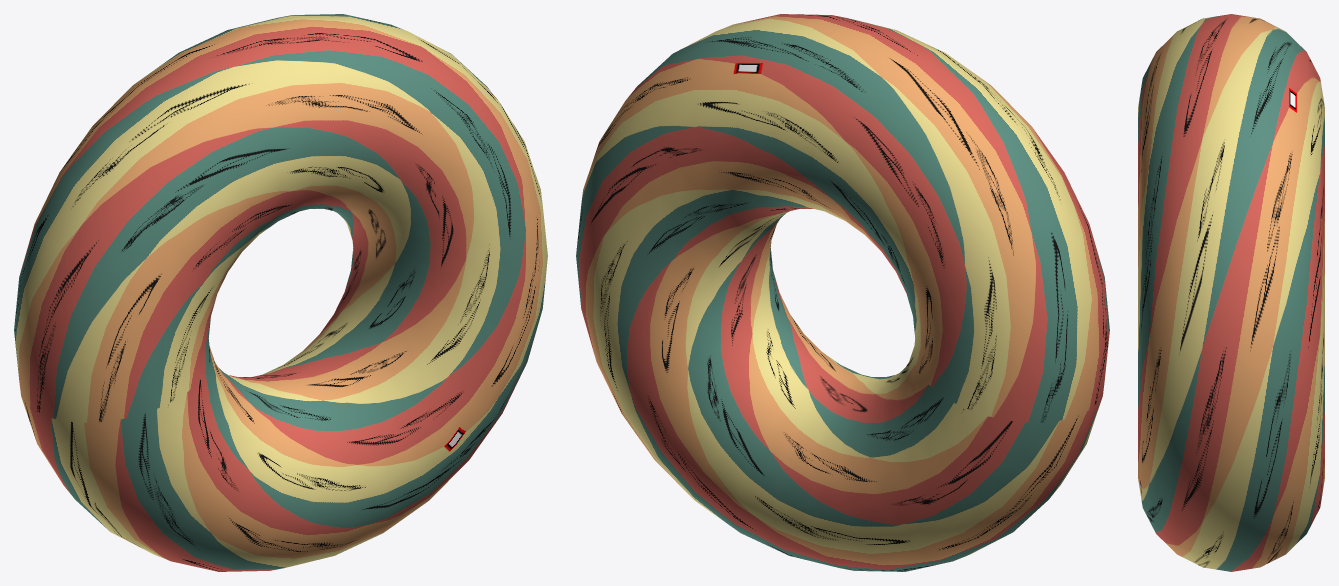
Rendered from uv_checkerboard_res_1024_iter_383_cat_map.obj.
3 views of the same model, side by side, from view 1: azimuth 30°, elevation 25°; view 2: azimuth 150°, elevation 25°; view 3: azimuth 270°, elevation 25° (orthographic). The views are drawn at different scales.
Size of the model in its own units: 3 by 2.98 by 1.
